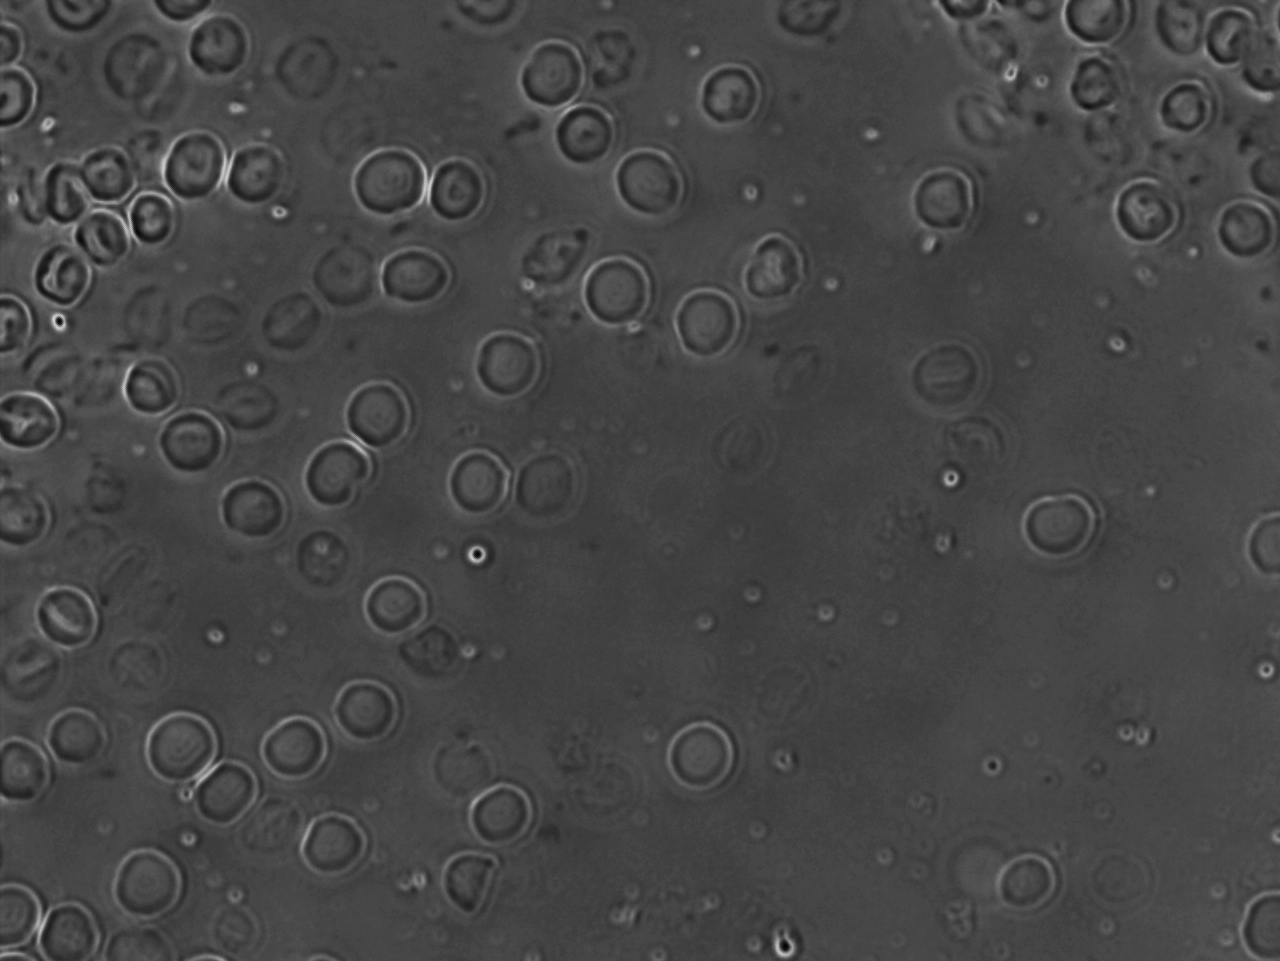depth:0: (1014, 476, 1116, 575), (465, 315, 561, 416), (347, 137, 446, 232), (602, 146, 702, 238), (413, 141, 511, 233), (665, 285, 765, 375), (662, 708, 755, 800), (132, 701, 227, 791), (290, 802, 390, 883), (99, 833, 196, 917), (689, 55, 782, 141), (332, 367, 422, 456), (569, 243, 662, 329), (509, 25, 600, 111), (177, 5, 266, 89), (155, 125, 246, 206), (436, 440, 526, 520), (28, 573, 106, 665), (1112, 166, 1187, 260), (350, 562, 435, 643), (375, 237, 460, 316), (291, 431, 375, 511), (250, 712, 335, 790), (208, 468, 293, 545), (465, 768, 543, 851), (898, 157, 986, 230), (191, 747, 270, 828), (215, 139, 293, 221), (36, 695, 112, 777), (326, 670, 401, 750), (112, 349, 193, 422), (552, 96, 631, 169), (731, 228, 807, 302), (155, 406, 227, 479)
